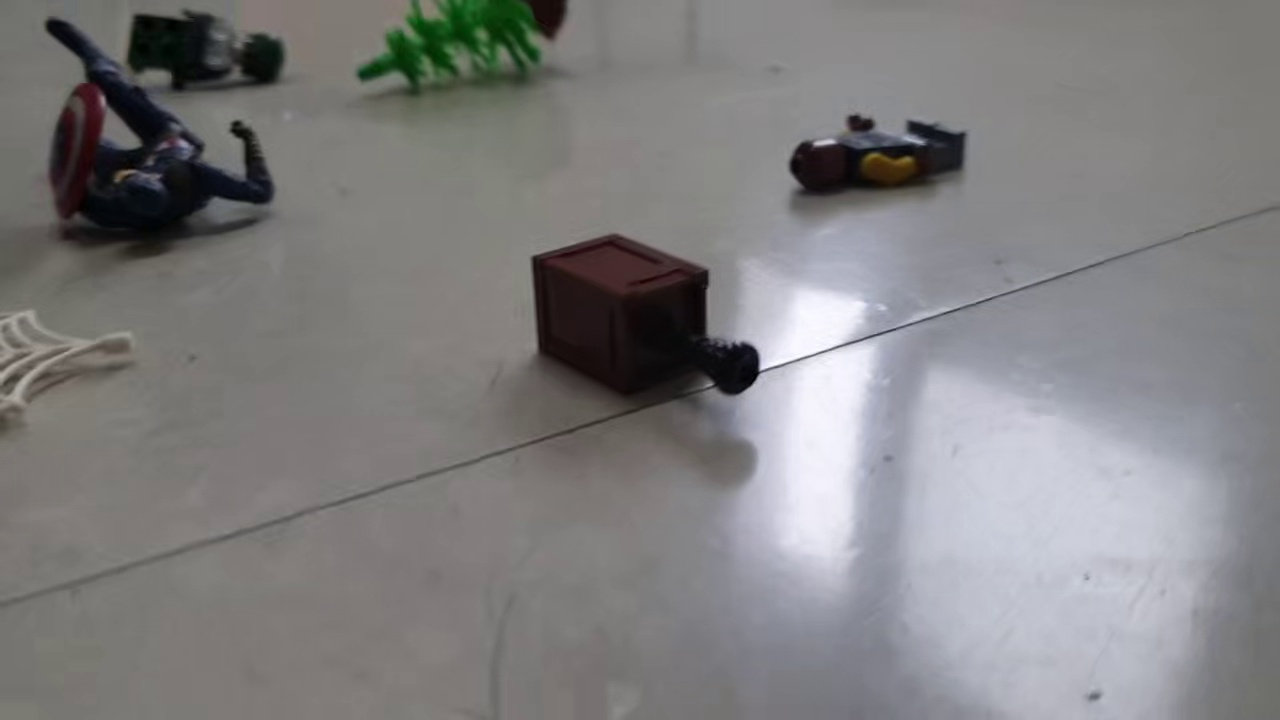box: (529, 230, 759, 411)
people: (38, 14, 281, 240), (788, 111, 967, 198), (124, 6, 288, 92)
tree: (353, 1, 569, 100)
web: (1, 306, 139, 432)
